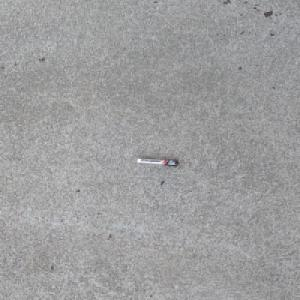Battery: (135, 157, 180, 166)
